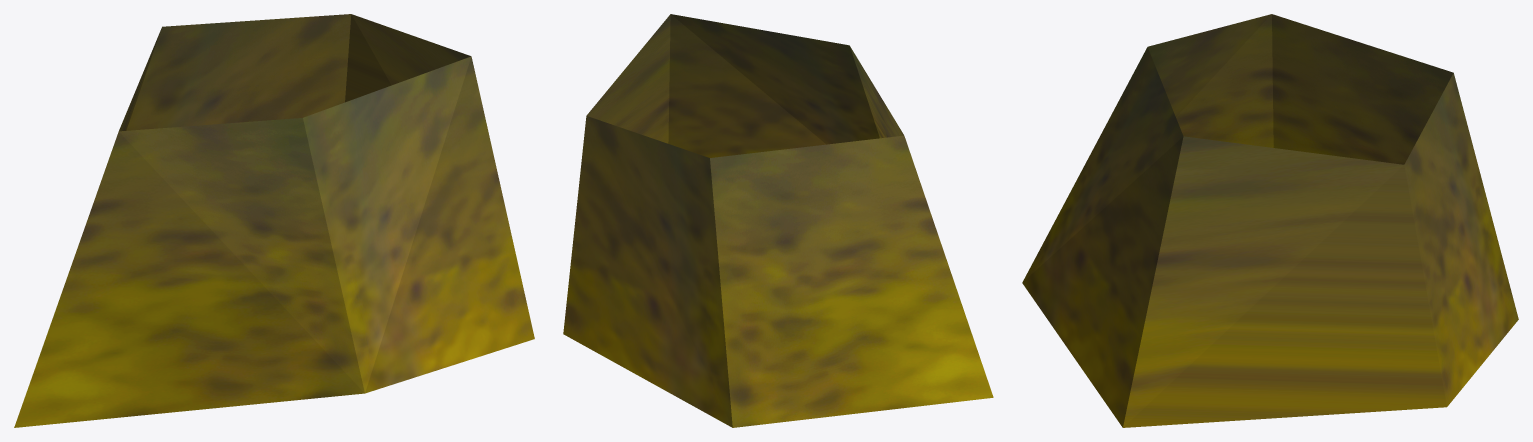
The model's file is Ridge_7_1_Lat.gltf.
3 views of the same model, side by side, from view 1: azimuth 30°, elevation 25°; view 2: azimuth 150°, elevation 25°; view 3: azimuth 270°, elevation 25° (orthographic). The views are drawn at different scales.
Visible parts, largest first — view 1: Ridge_7_1_Lat; view 2: Ridge_7_1_Lat; view 3: Ridge_7_1_Lat.
Part boxes in pixels (bbox=[...]): Ridge_7_1_Lat: bbox=[14, 14, 534, 427]; Ridge_7_1_Lat: bbox=[563, 14, 993, 427]; Ridge_7_1_Lat: bbox=[1022, 14, 1518, 427].
Bounding box in the file's own units: 31.06 × 20.19 × 29.31.
1 material, 1 textured.
